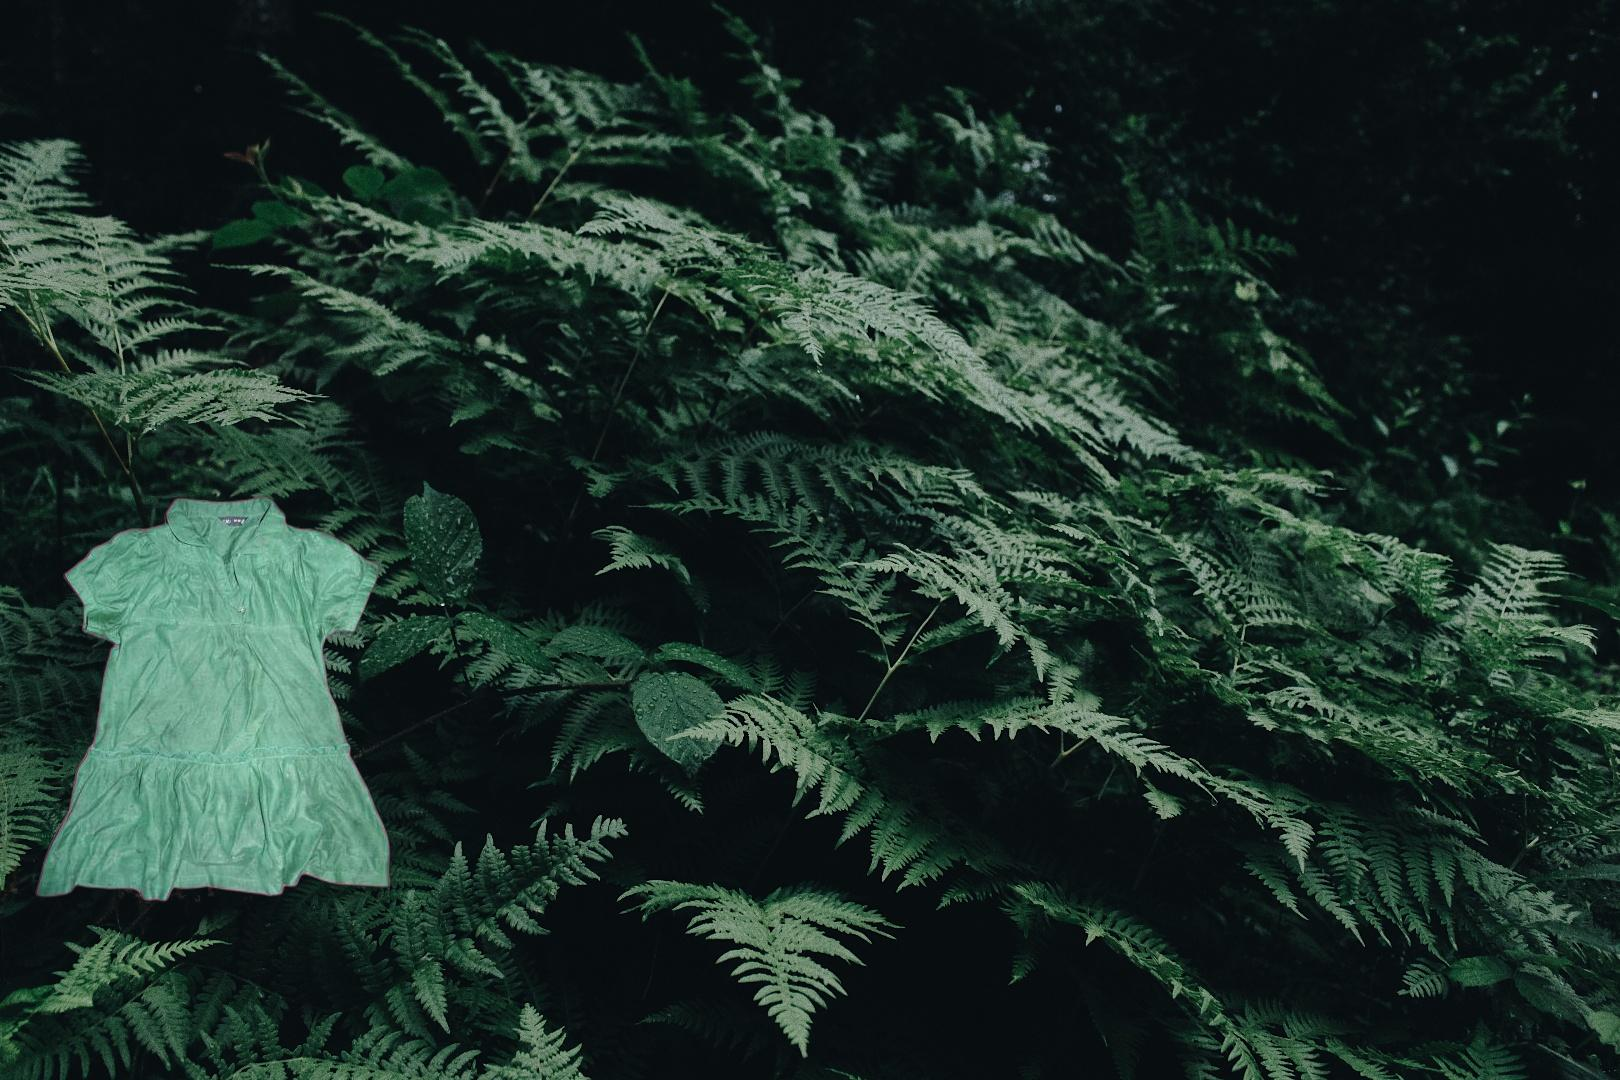clothes: (33, 491, 393, 906)
